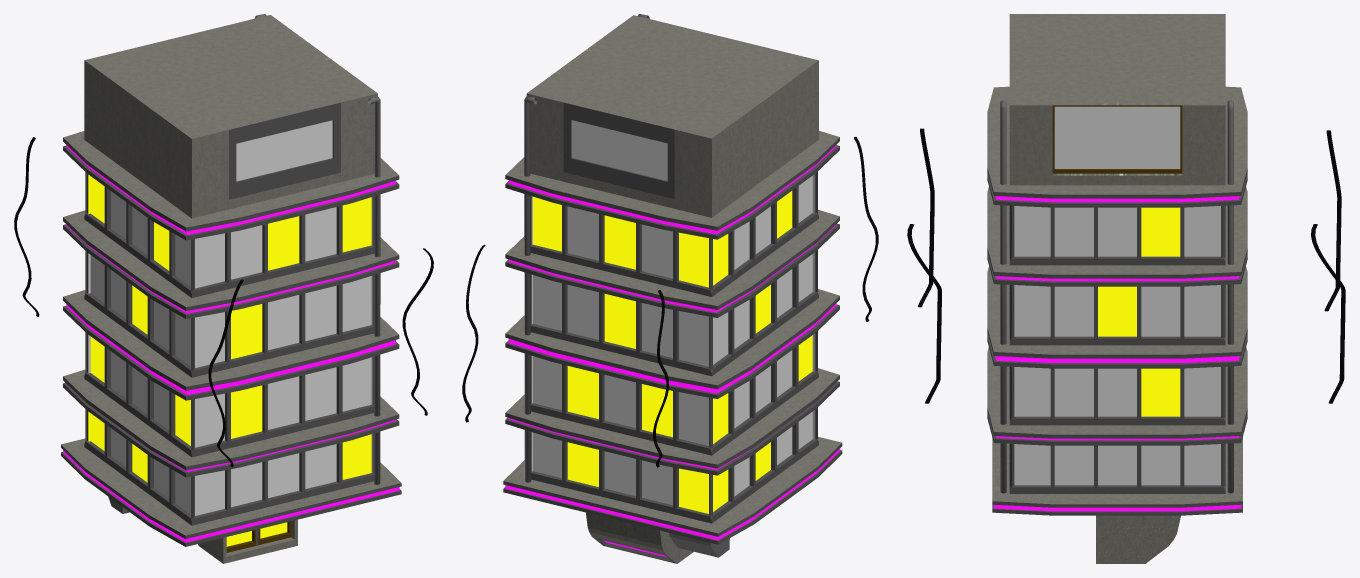
3 views of the same model, side by side, from view 1: azimuth 30°, elevation 25°; view 2: azimuth 150°, elevation 25°; view 3: azimuth 270°, elevation 25° (orthographic).
Parts seen in each view (by area): view 1: BULDING_1, BezierCurve_0; view 2: BULDING_1, BezierCurve_0; view 3: BULDING_1, BezierCurve_0.
Boxes of the visible parts, left/top/right/bottom form: BULDING_1: left=61, top=14, right=401, bottom=563; BezierCurve_0: left=14, top=137, right=433, bottom=467; BULDING_1: left=503, top=14, right=842, bottom=563; BezierCurve_0: left=462, top=136, right=878, bottom=467; BULDING_1: left=987, top=14, right=1247, bottom=563; BezierCurve_0: left=907, top=128, right=1345, bottom=403.
Bounding box in the file's own units: 2.45 × 4.87 × 4.06.
Materials: 8 (1 with a texture image).
